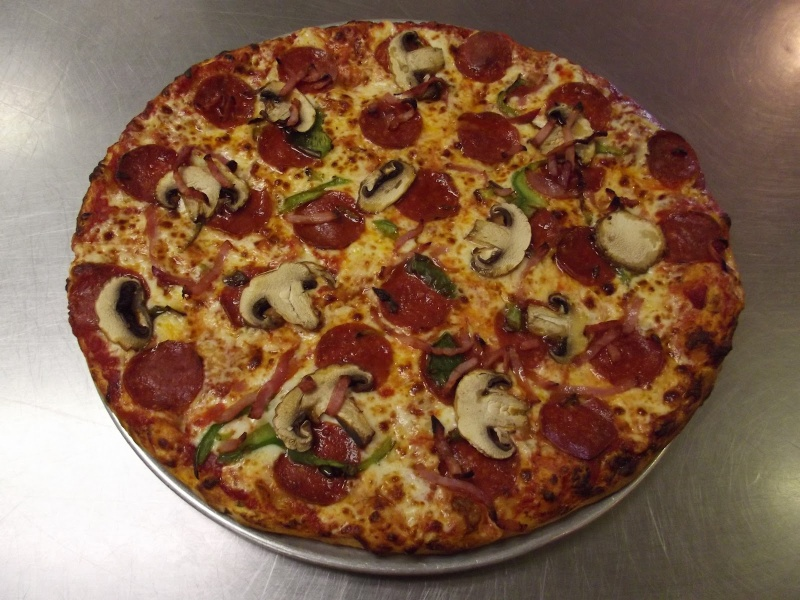pepperonis: (533, 385, 624, 457), (124, 334, 210, 410), (580, 313, 670, 382), (547, 214, 614, 291), (323, 321, 393, 386), (653, 198, 717, 266), (449, 105, 518, 165), (361, 90, 425, 150), (190, 70, 255, 127), (402, 165, 462, 225), (457, 27, 517, 86)
